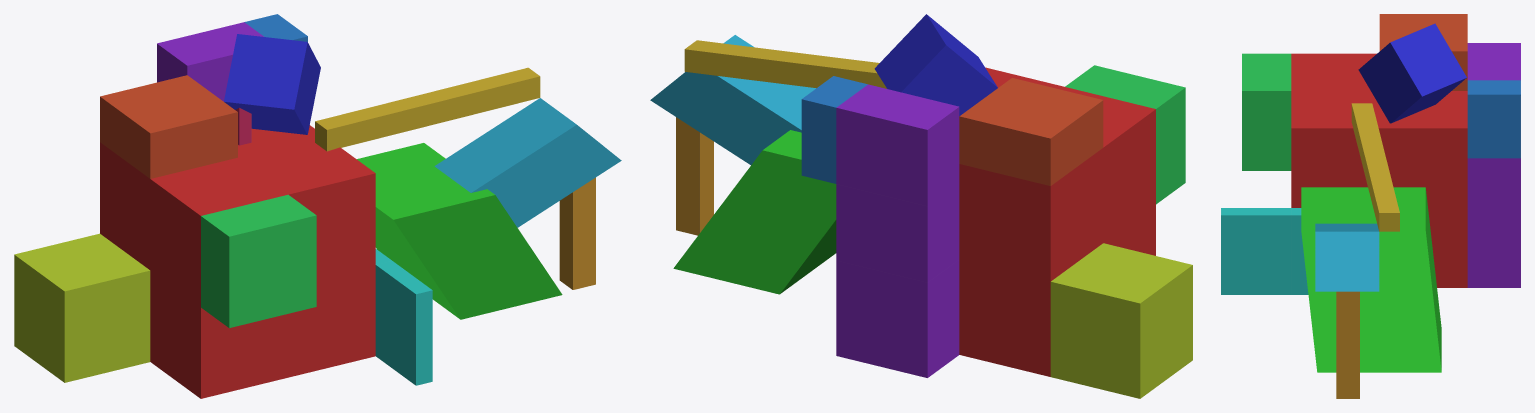
The model's file is playground.gltf.
3 views of the same model, side by side, from view 1: azimuth 30°, elevation 25°; view 2: azimuth 150°, elevation 25°; view 3: azimuth 270°, elevation 25° (orthographic). The views are drawn at different scales.
Parts seen in each view (by area): view 1: Rock Formation_0; view 2: Rock Formation_0; view 3: Rock Formation_0.
Boxes of the visible parts, box(x1,y1,x2,y2) form: Rock Formation_0: box(14, 14, 621, 398); Rock Formation_0: box(650, 14, 1192, 398); Rock Formation_0: box(1221, 14, 1520, 398).
Bounding box in the file's own units: 15.17 × 7.88 × 8.67.
1 material, 1 textured.
